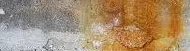Corrosion: (81, 1, 188, 51)
